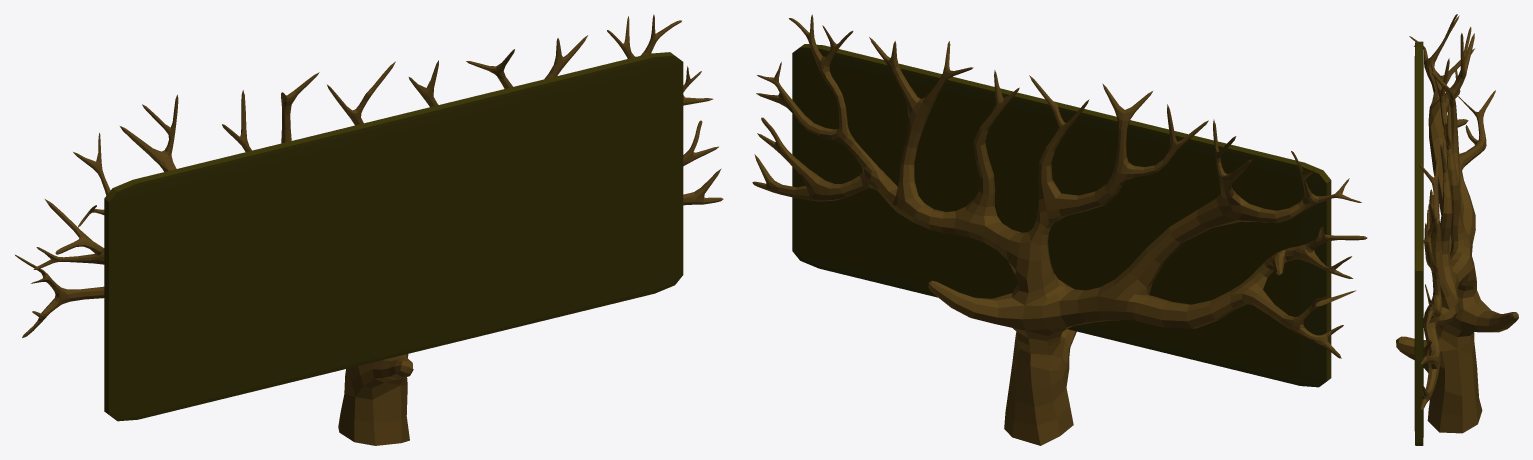
The model's file is fieldBase.glb.
3 views of the same model, side by side, from view 1: azimuth 30°, elevation 25°; view 2: azimuth 150°, elevation 25°; view 3: azimuth 270°, elevation 25° (orthographic). The views are drawn at different scales.
Parts seen in each view (by area): view 1: billboard.002, tree.004; view 2: billboard.002, tree.004; view 3: tree.004, billboard.002.
Part boxes in pixels (x1,y1,x2,y2): billboard.002: (104, 52, 683, 421); tree.004: (15, 14, 723, 445); billboard.002: (792, 44, 1331, 387); tree.004: (752, 14, 1367, 445); tree.004: (1396, 14, 1518, 433); billboard.002: (1414, 41, 1423, 445).
Size of the model in its own units: 14.27 by 7.91 by 2.8.
